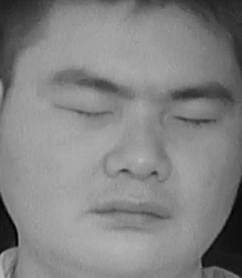blink: (55, 93, 113, 132), (169, 102, 222, 136)
mouth: (82, 187, 170, 241)
